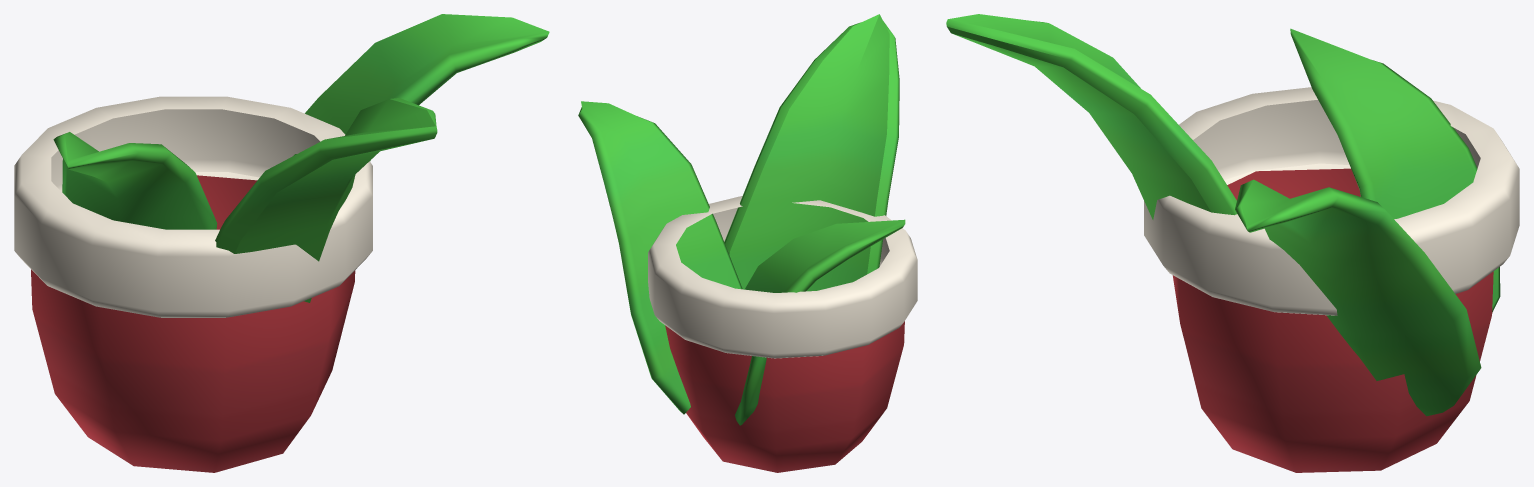
The model's file is Plants.fbx.
The picture shows the model from 3 angles, left to right: view 1: azimuth 30°, elevation 25°; view 2: azimuth 150°, elevation 25°; view 3: azimuth 270°, elevation 25°; orthographic projection. The views are drawn at different scales.
Parts seen in each view (by area): view 1: Plants, Pot_02_Leaf_06, Pot_02_Leaf_11, Pot_02_Leaf_02; view 2: Plants, Pot_02_Leaf_06, Pot_02_Leaf_11, Pot_02_Leaf_02; view 3: Plants, Pot_02_Leaf_11, Pot_02_Leaf_02, Pot_02_Leaf_06.
Part boxes in pixels (x1=…): Plants: x1=14, y1=96, x2=372, y2=472; Pot_02_Leaf_06: x1=215, y1=98, x2=437, y2=302; Pot_02_Leaf_11: x1=293, y1=14, x2=549, y2=160; Pot_02_Leaf_02: x1=53, y1=132, x2=217, y2=229; Plants: x1=648, y1=196, x2=917, y2=472; Pot_02_Leaf_06: x1=724, y1=14, x2=899, y2=291; Pot_02_Leaf_11: x1=578, y1=101, x2=742, y2=414; Pot_02_Leaf_02: x1=735, y1=219, x2=905, y2=425; Plants: x1=1144, y1=87, x2=1519, y2=472; Pot_02_Leaf_11: x1=1235, y1=179, x2=1481, y2=416; Pot_02_Leaf_02: x1=1290, y1=28, x2=1500, y2=312; Pot_02_Leaf_06: x1=946, y1=14, x2=1236, y2=219.
Bounding box in the file's own units: 36.8 × 32.6 × 37.58.
1 material, 1 textured.
